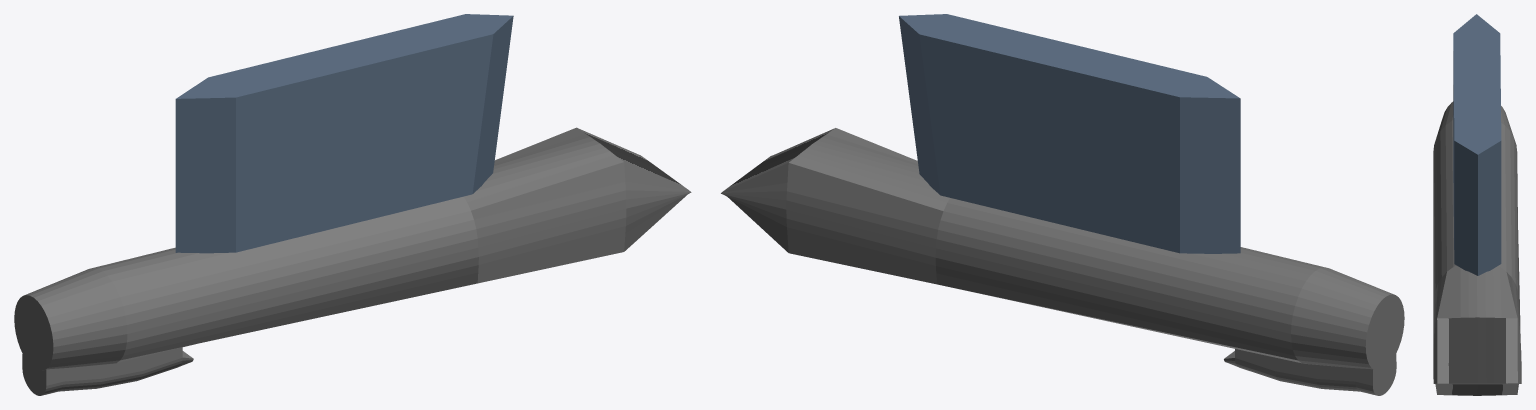
Rendered from f15eaaq331.glb.
3 views of the same model, side by side, from view 1: azimuth 30°, elevation 25°; view 2: azimuth 150°, elevation 25°; view 3: azimuth 270°, elevation 25° (orthographic). The views are drawn at different scales.
Parts seen in each view (by area): view 1: 円柱.036, 立方体.039; view 2: 円柱.036, 立方体.039; view 3: 円柱.036, 立方体.039.
Boxes of the visible parts, x1,y1,x2,y2 form: 円柱.036: [14, 127, 691, 395]; 立方体.039: [175, 14, 513, 253]; 円柱.036: [721, 128, 1404, 395]; 立方体.039: [899, 14, 1240, 253]; 円柱.036: [1433, 101, 1521, 395]; 立方体.039: [1453, 14, 1501, 275].
Bounding box in the file's own units: 2.3 × 0.9293 × 0.3258.
2 materials, 1 textured.
